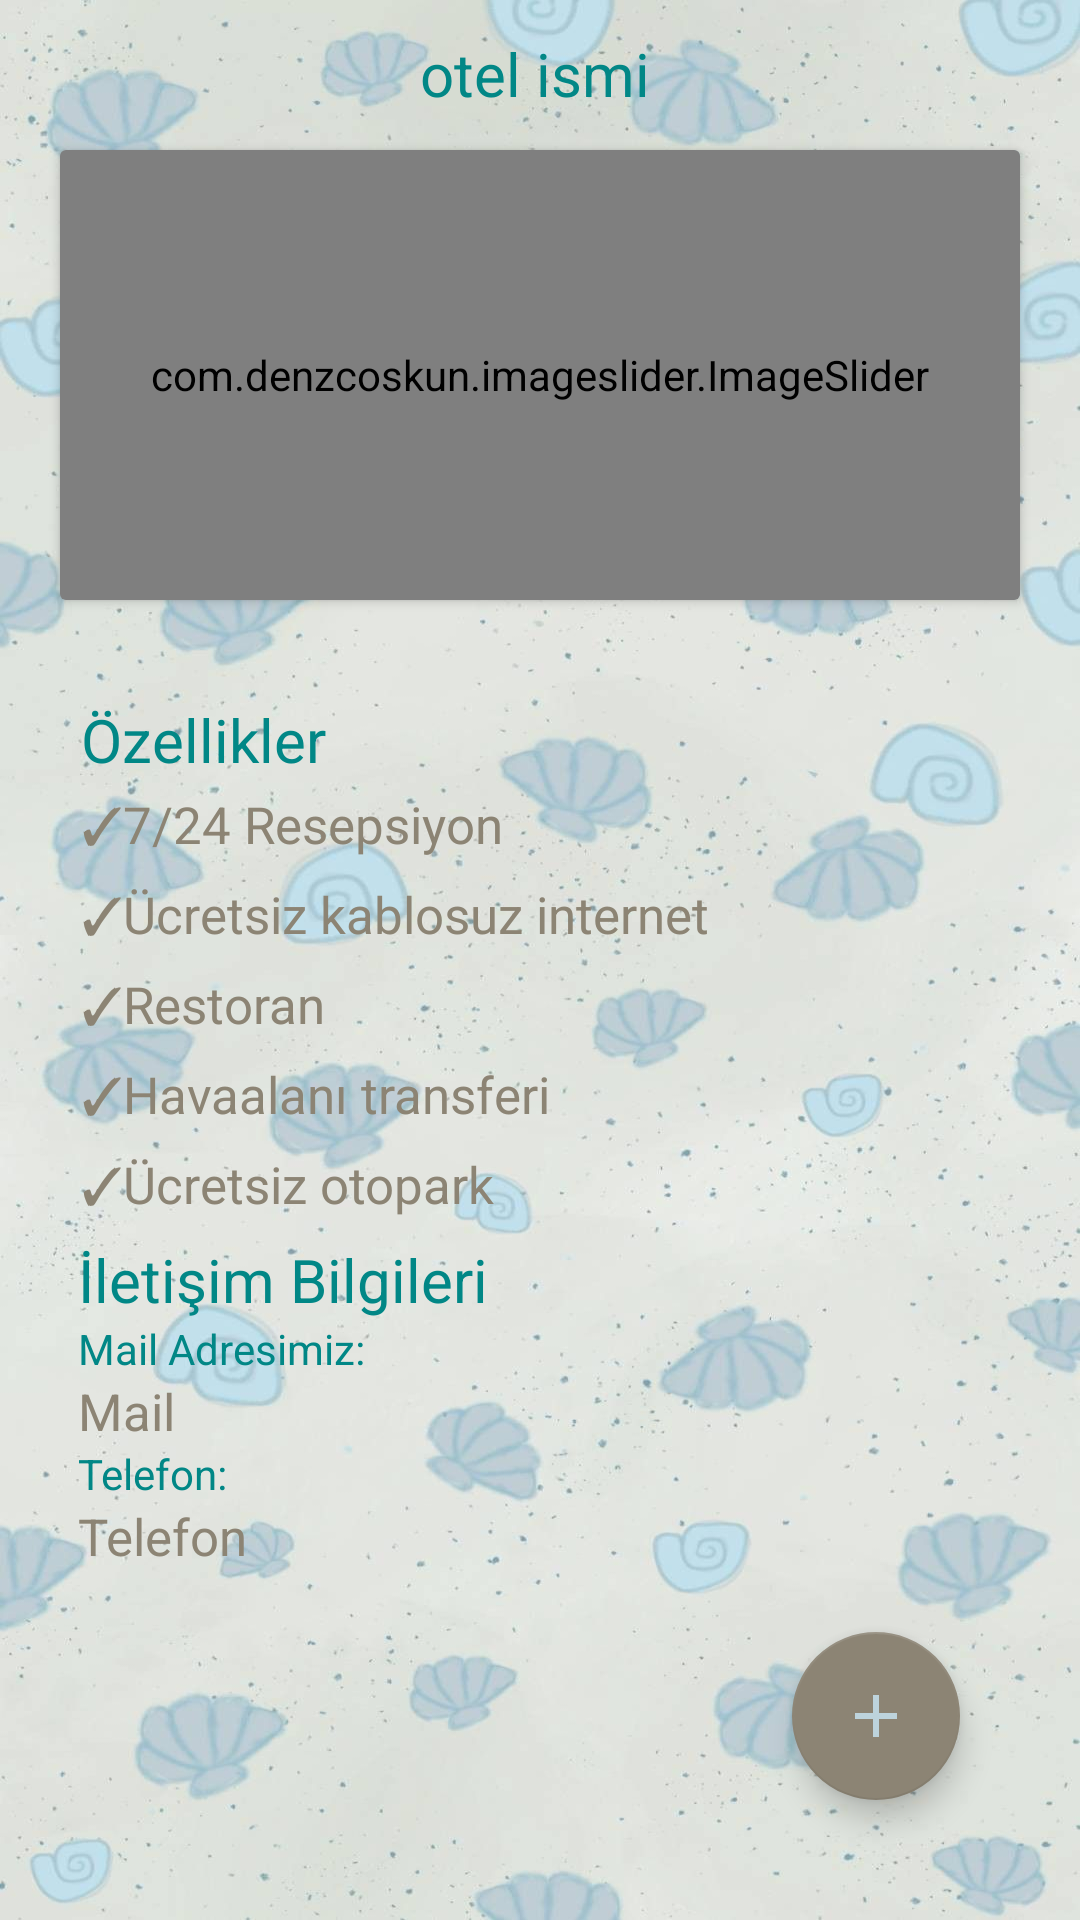

Icon click points for this 1080 × 1920 phone screenshot, format [x,y]:
icplus: [876,1716]
